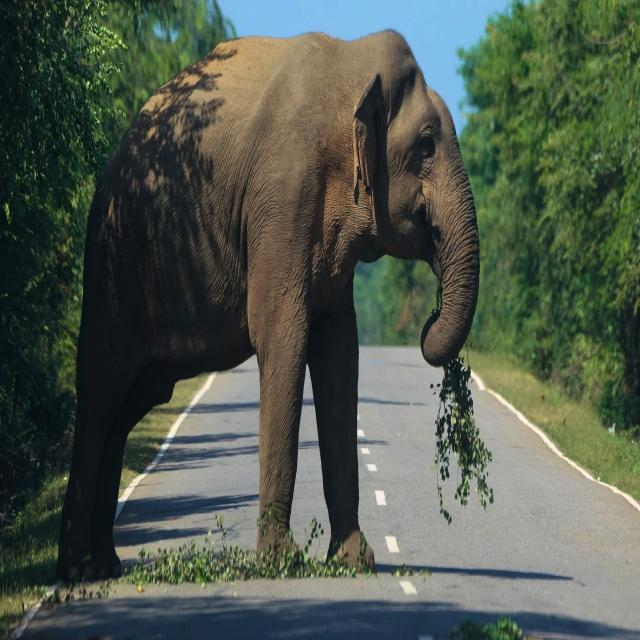Elephant: (54, 14, 488, 586)
